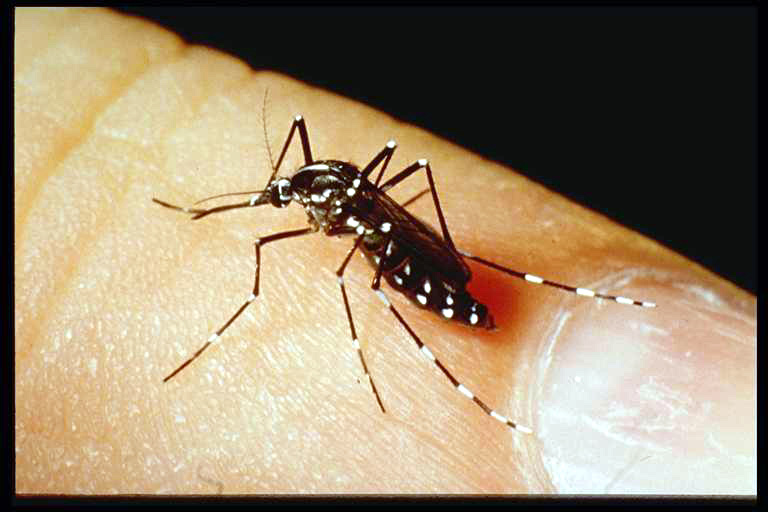dengue_mosquito: (152, 88, 520, 356)
